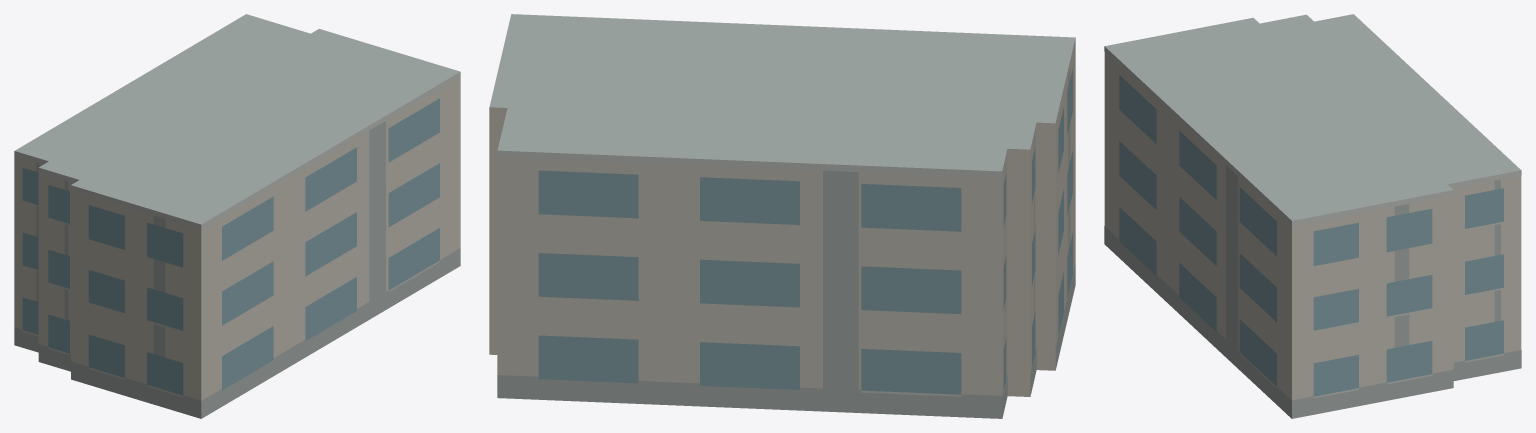
The model's file is residential-b7c10830-b4d5-4e46-8e38-cfb300055451.glb.
The picture shows the model from 3 angles, left to right: view 1: azimuth 30°, elevation 25°; view 2: azimuth 150°, elevation 25°; view 3: azimuth 270°, elevation 25°; orthographic projection. The views are drawn at different scales.
Visible parts, largest first — view 1: residential-b7c10830-b4d5-4e46-8e38-cfb300055451.tmp; view 2: residential-b7c10830-b4d5-4e46-8e38-cfb300055451.tmp; view 3: residential-b7c10830-b4d5-4e46-8e38-cfb300055451.tmp.
Boxes of the visible parts, box(x1,y1,x2,y2) form: residential-b7c10830-b4d5-4e46-8e38-cfb300055451.tmp: box(14, 14, 460, 418); residential-b7c10830-b4d5-4e46-8e38-cfb300055451.tmp: box(489, 14, 1075, 418); residential-b7c10830-b4d5-4e46-8e38-cfb300055451.tmp: box(1104, 14, 1521, 418).
Bounding box in the file's own units: 20.5 × 9.15 × 17.47.
